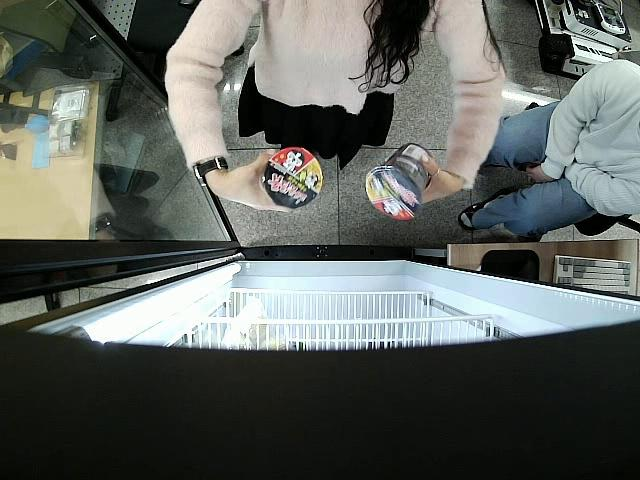00_hand: (226, 149, 293, 215), (419, 154, 463, 205)
08_buldak_S: (364, 141, 435, 220), (263, 148, 325, 207)
